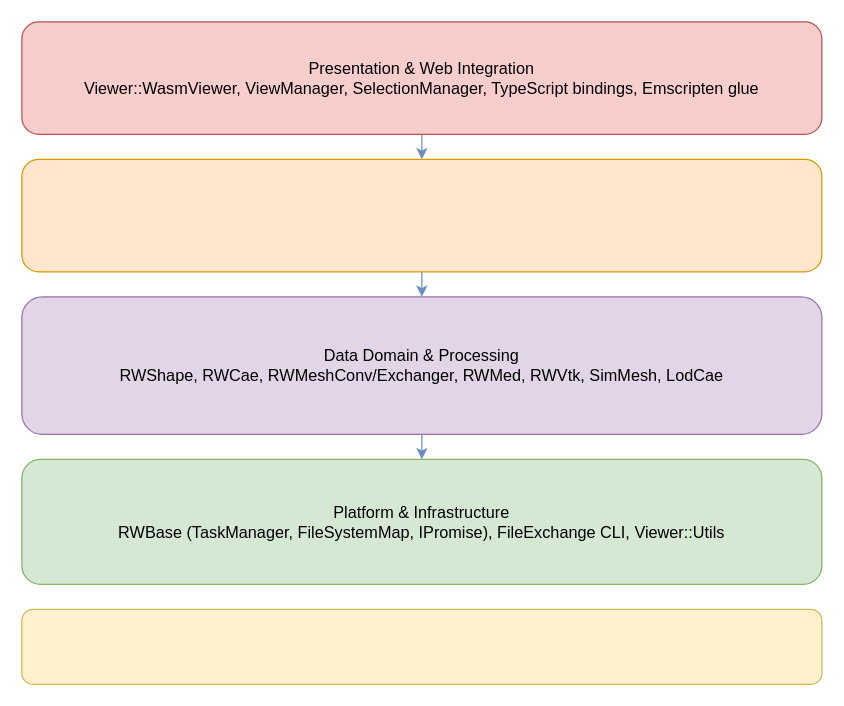
This 844x706 diagram has some shape labels left out. Each missing label, with the box of its shape:
Cross-cutting: async tasking, file-system emulation, OCCT runtime: (21, 608, 822, 684)
Visualization Services ViewBase, ViewShape, ViewCae, ViewCaeGeom, ViewDim: (21, 158, 822, 272)
